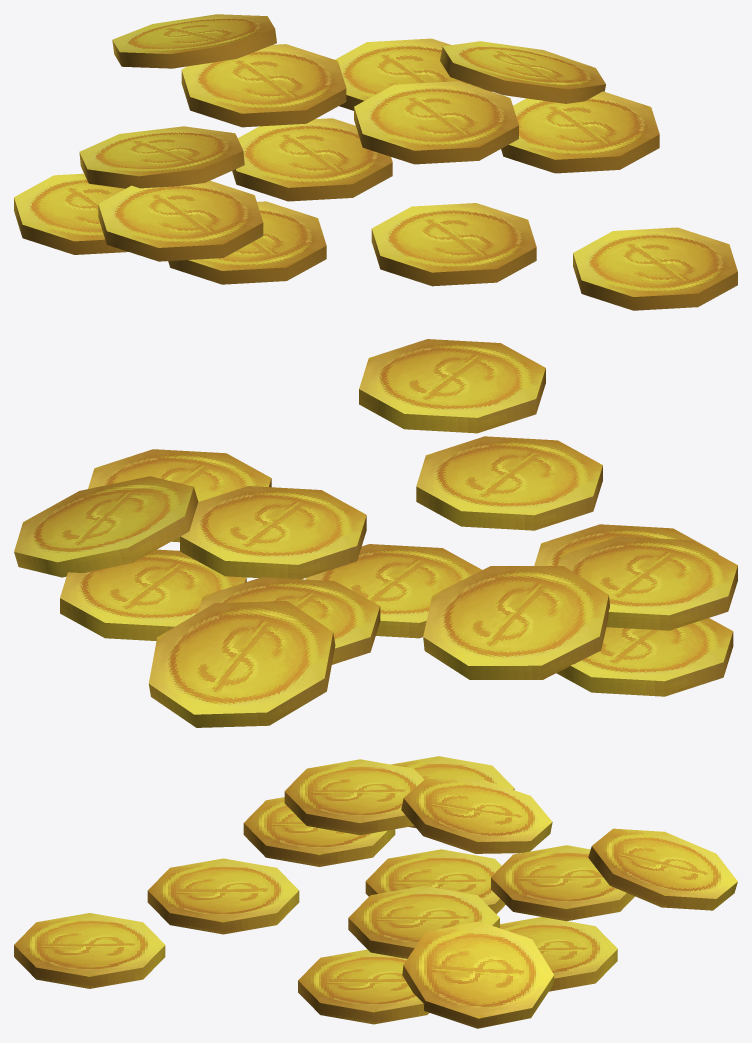
Rendered from Jinbi_1.FBX.
The picture shows the model from 3 angles, top to bottom: view 1: azimuth 30°, elevation 25°; view 2: azimuth 150°, elevation 25°; view 3: azimuth 270°, elevation 25°; orthographic projection. The views are drawn at different scales.
Visible parts, largest first — view 1: Jinbi_001; view 2: Jinbi_001; view 3: Jinbi_001.
Part boxes in pixels (x1,y1,x2,y2): Jinbi_001: [14, 14, 737, 310]; Jinbi_001: [14, 339, 737, 727]; Jinbi_001: [14, 756, 737, 1028].
Size of the model in its own units: 20.3 by 2.04 by 24.08.
1 material, 1 textured.
